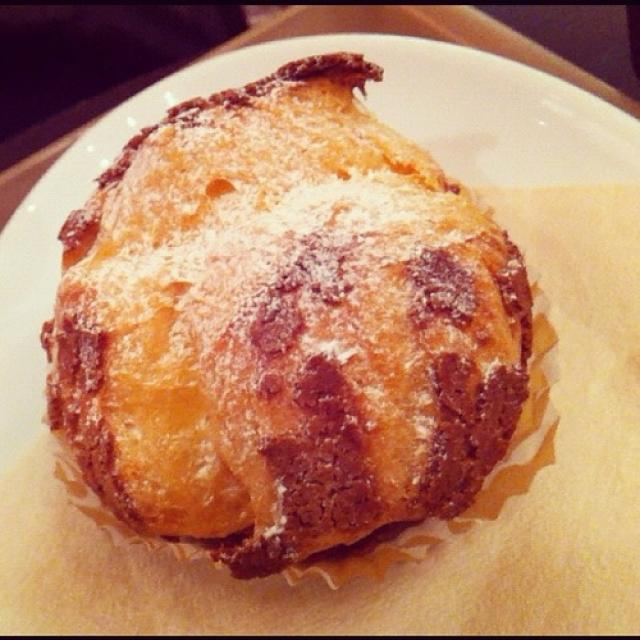炸货点心: (1, 28, 631, 629)
蛋糕甜品: (1, 28, 631, 629)
